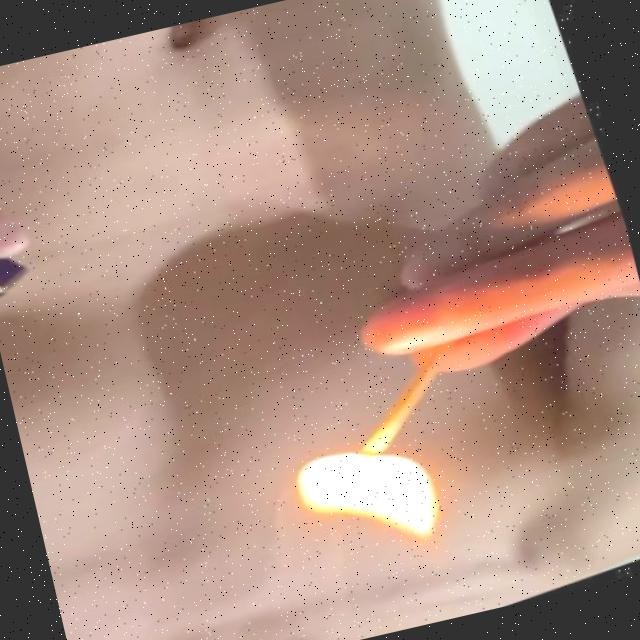fire: (269, 415, 473, 589)
